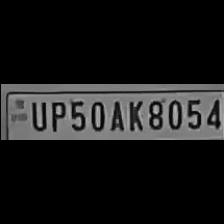0: (88, 98, 106, 132), (164, 96, 182, 130)
4: (203, 96, 221, 130)
5: (66, 98, 86, 132), (184, 96, 202, 130)
8: (144, 97, 164, 131)
A: (107, 97, 125, 132)
K: (124, 97, 142, 133)
P: (46, 98, 64, 132)
U: (27, 98, 46, 132)
